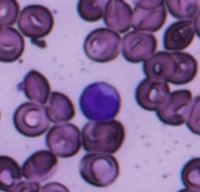L: (80, 79, 120, 122)
